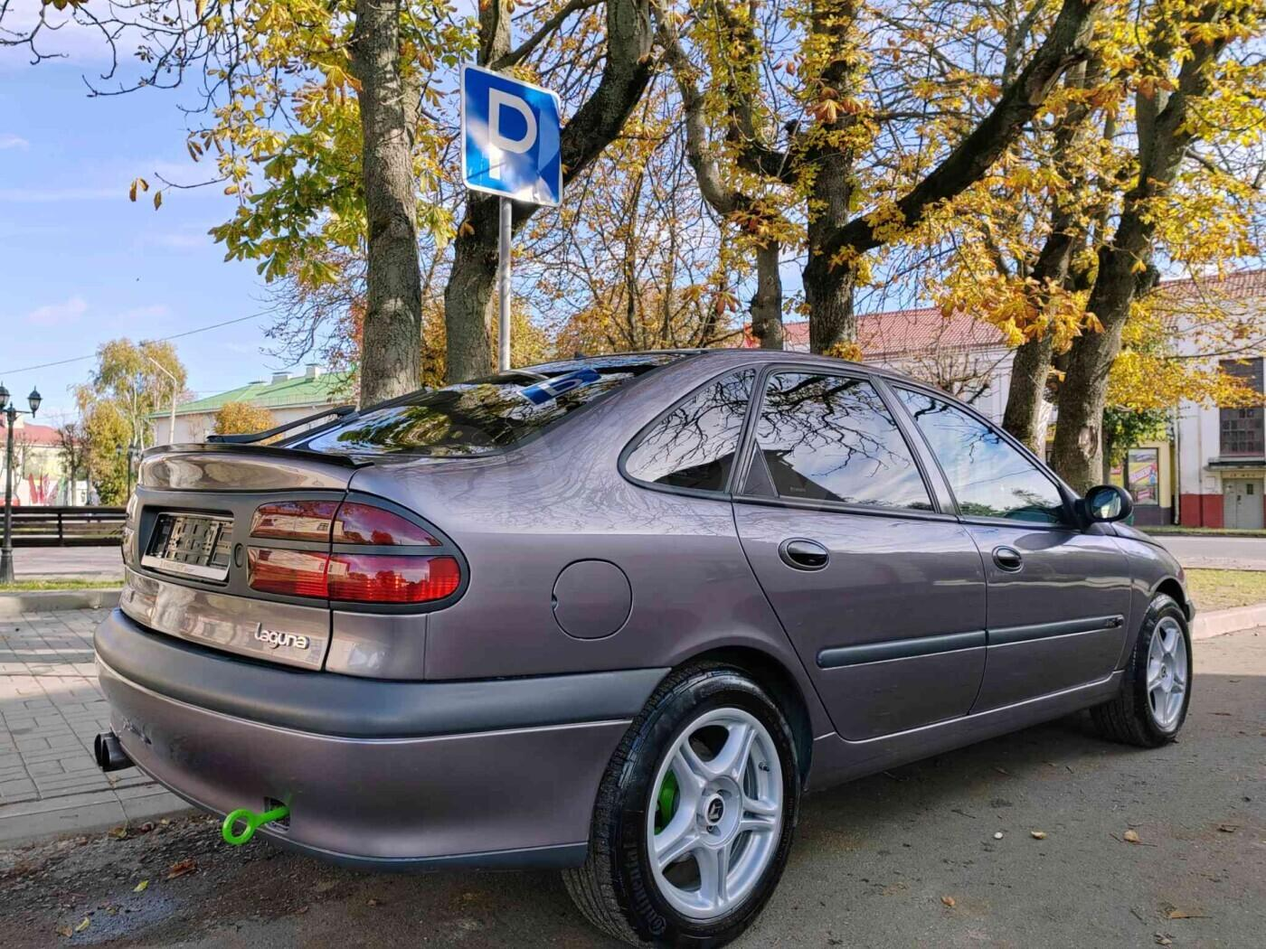Laguna_1998-2001: (79, 345, 1194, 949)
